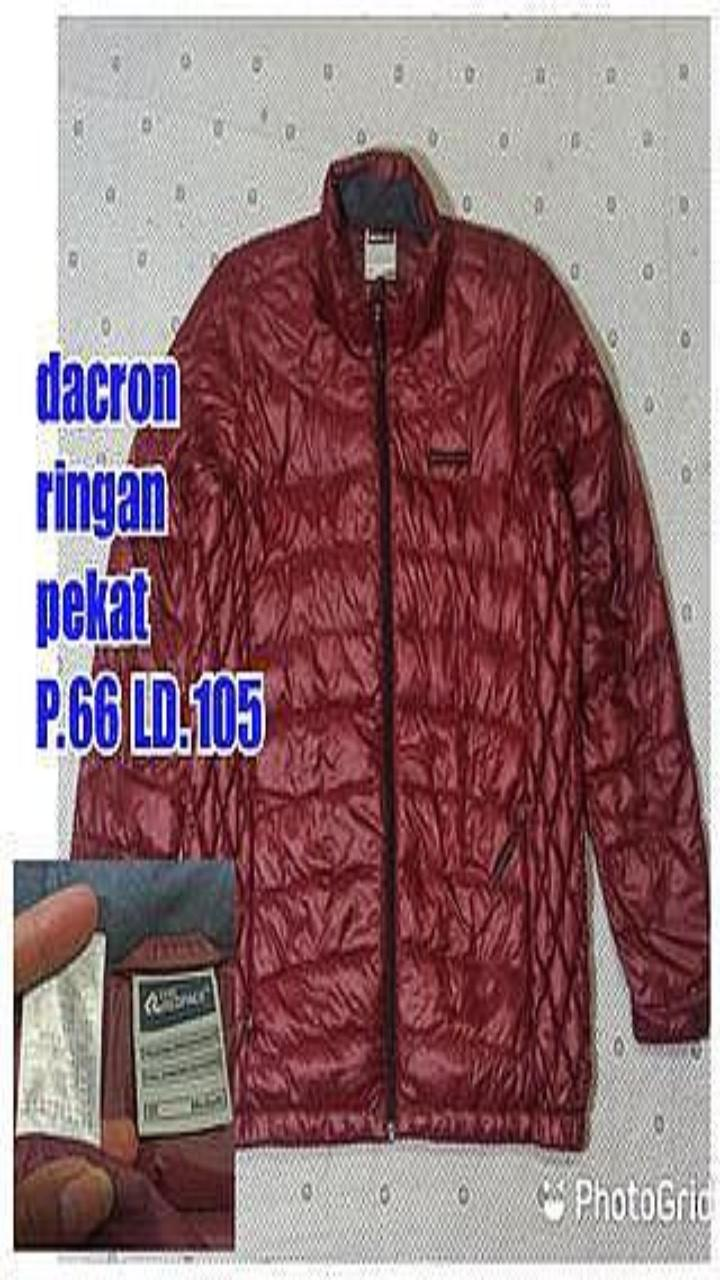Sports_Jacket: (73, 150, 707, 1148)
